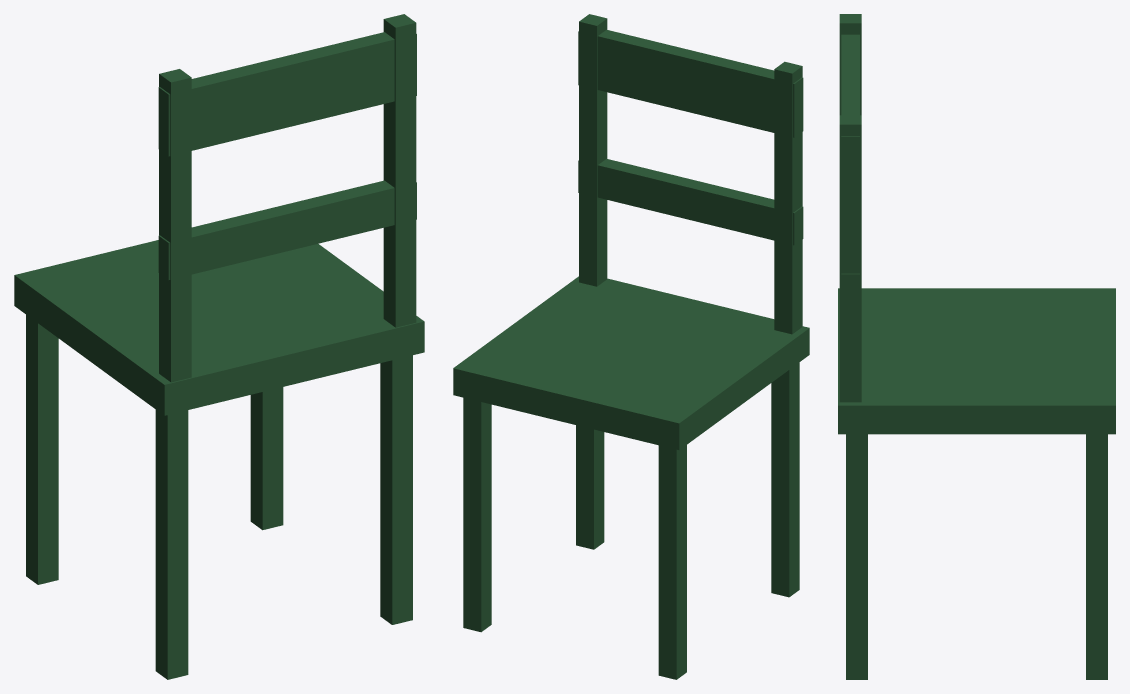
The model's file is chair-metal.obj.
3 renders of one model, left to right at view 1: azimuth 30°, elevation 25°; view 2: azimuth 150°, elevation 25°; view 3: azimuth 270°, elevation 25°, orthographic. The views are drawn at different scales.
Parts seen in each view (by area): view 1: chair-metal_0, chair-metal_7, chair-metal_8, chair-metal_6, chair-metal_5, chair-metal_3, chair-metal_4, chair-metal_1, chair-metal_2; view 2: chair-metal_0, chair-metal_7, chair-metal_8, chair-metal_5, chair-metal_6, chair-metal_1, chair-metal_2, chair-metal_3, chair-metal_4; view 3: chair-metal_0, chair-metal_2, chair-metal_4, chair-metal_6, chair-metal_7, chair-metal_5, chair-metal_8.
Part boxes in pixels (x1,y1,x2,y2): chair-metal_0: (14, 240, 424, 415); chair-metal_7: (158, 32, 416, 156); chair-metal_8: (158, 180, 416, 279); chair-metal_6: (383, 14, 416, 327); chair-metal_5: (159, 69, 191, 382); chair-metal_3: (155, 410, 188, 679); chair-metal_4: (380, 355, 412, 624); chair-metal_1: (26, 315, 58, 584); chair-metal_2: (250, 387, 283, 530); chair-metal_0: (453, 276, 809, 450); chair-metal_7: (578, 29, 803, 137); chair-metal_8: (578, 159, 803, 245); chair-metal_5: (774, 61, 802, 334); chair-metal_6: (579, 14, 607, 286); chair-metal_1: (658, 445, 686, 679); chair-metal_2: (463, 397, 491, 632); chair-metal_3: (771, 362, 799, 597); chair-metal_4: (576, 425, 604, 549); chair-metal_0: (838, 288, 1115, 434); chair-metal_2: (1086, 434, 1107, 679); chair-metal_4: (846, 434, 867, 679); chair-metal_6: (839, 115, 861, 402); chair-metal_7: (841, 34, 859, 193); chair-metal_5: (839, 14, 861, 115); chair-metal_8: (841, 273, 859, 308).
Bounding box in the file's own units: 0.44 × 0.97 × 0.44.
